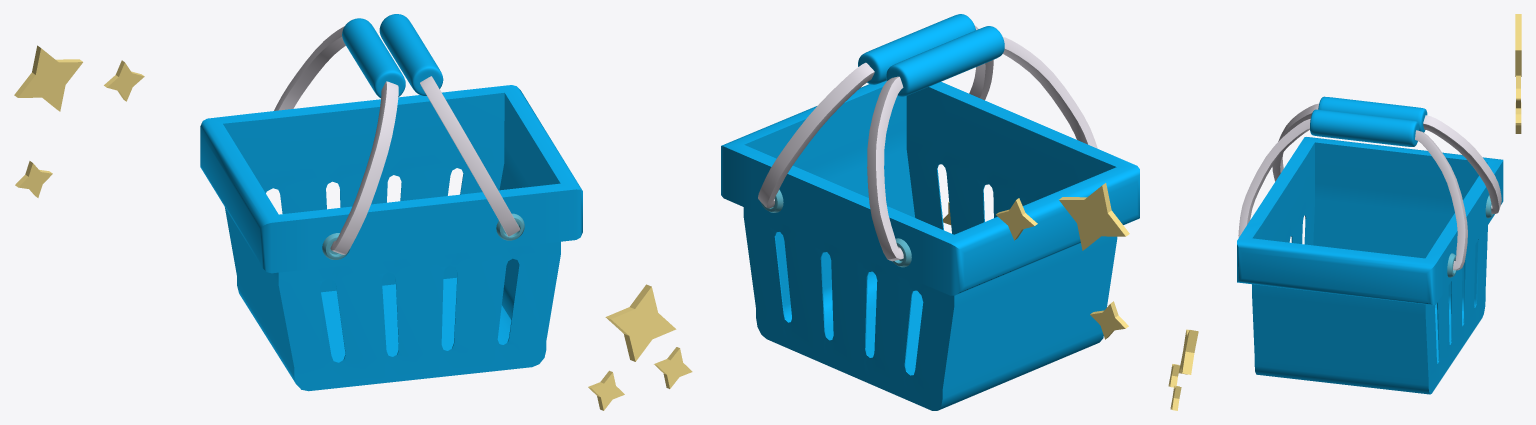
File: basket.fbx
3 renders of one model, left to right at view 1: azimuth 30°, elevation 25°; view 2: azimuth 150°, elevation 25°; view 3: azimuth 270°, elevation 25°, orthographic. The views are drawn at different scales.
Parts seen in each view (by area): view 1: Cube, Plane, Cylinder.003, Cylinder.002, Star.003, Star, Star.004, Star.001, Cylinder, Star.005, Star.002; view 2: Cube, Plane, Cylinder.002, Cylinder.003, Star, Star.001, Star.002, Cylinder; view 3: Cube, Plane, Cylinder.003, Cylinder.002, Star.003, Star.
Boxes of the visible parts, <box> form: Cube: <box>200,85,582,391</box>; Plane: <box>274,26,520,254</box>; Cylinder.003: <box>379,14,443,95</box>; Cylinder.002: <box>342,18,405,98</box>; Star.003: <box>605,284,676,361</box>; Star: <box>14,45,82,111</box>; Star.004: <box>654,347,692,388</box>; Star.001: <box>104,60,144,101</box>; Cylinder: <box>322,213,524,259</box>; Star.005: <box>588,370,624,410</box>; Star.002: <box>15,161,52,197</box>; Cube: <box>721,80,1139,410</box>; Plane: <box>758,25,1097,261</box>; Cylinder.002: <box>886,26,1004,96</box>; Cylinder.003: <box>858,14,975,84</box>; Star: <box>1059,183,1129,250</box>; Star.001: <box>996,198,1037,240</box>; Star.002: <box>1090,301,1128,339</box>; Cylinder: <box>760,189,911,267</box>; Cube: <box>1237,137,1503,394</box>; Plane: <box>1238,103,1501,270</box>; Cylinder.003: <box>1310,109,1419,146</box>; Cylinder.002: <box>1318,96,1427,132</box>; Star.003: <box>1179,329,1198,374</box>; Star: <box>1515,14,1521,76</box>.
Size of the model in its own units: 480 by 298 by 392.
